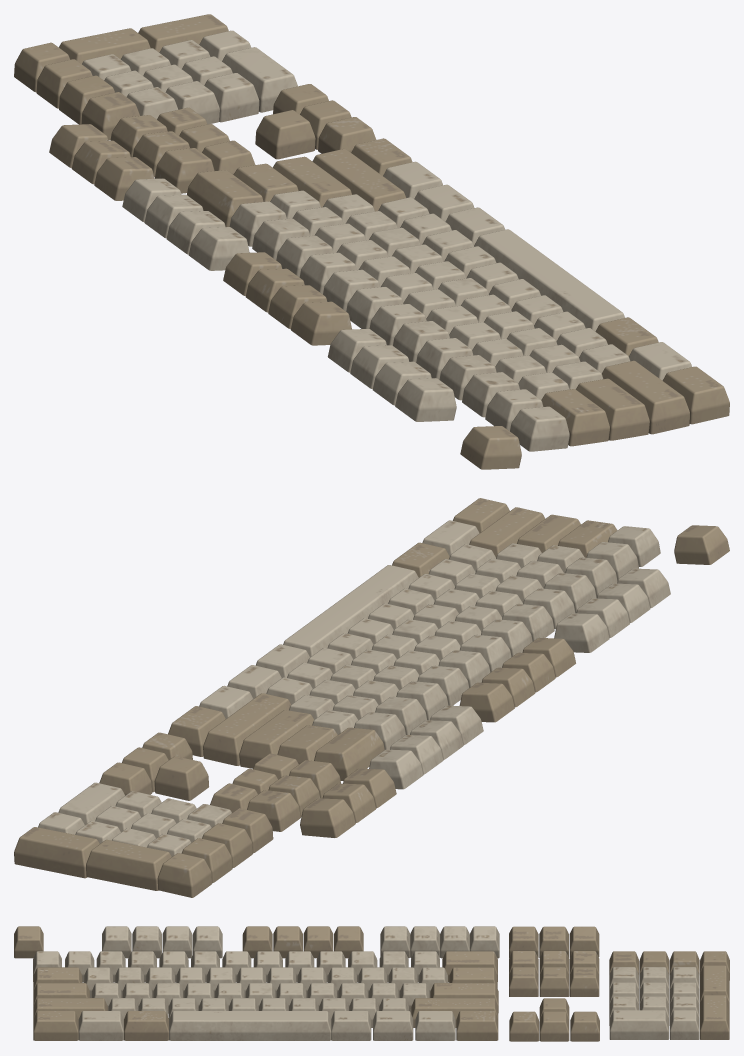
Rendered from Old_Keys.glb.
3 renders of one model, top to bottom at view 1: azimuth 30°, elevation 25°; view 2: azimuth 150°, elevation 25°; view 3: azimuth 270°, elevation 25°, orthographic. The views are drawn at different scales.
Visible parts, largest first — view 1: C_keyboard_low_blinn13_0; view 2: C_keyboard_low_blinn13_0; view 3: C_keyboard_low_blinn13_0.
Boxes of the visible parts, bbox=[...] form: C_keyboard_low_blinn13_0: bbox=[14, 14, 729, 469]; C_keyboard_low_blinn13_0: bbox=[14, 498, 729, 897]; C_keyboard_low_blinn13_0: bbox=[14, 926, 729, 1041].
Bounding box in the file's own units: 13.01 × 2.22 × 45.17.
1 material, 1 textured.
